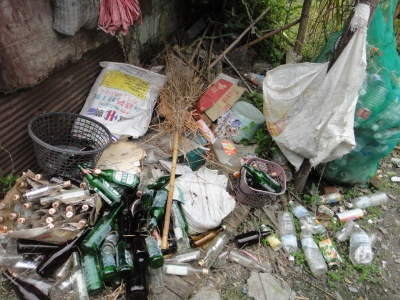bottle: (35, 225, 92, 282), (81, 199, 126, 255), (86, 164, 142, 192), (298, 225, 327, 275), (241, 161, 284, 194), (348, 223, 374, 271), (197, 232, 230, 269), (278, 209, 300, 262), (69, 251, 91, 300), (23, 179, 73, 199), (147, 188, 169, 233), (189, 224, 227, 249), (161, 259, 208, 279), (37, 189, 91, 205), (235, 229, 274, 250), (345, 191, 389, 208)
plastic_bag: (263, 3, 377, 170), (71, 58, 168, 140)
